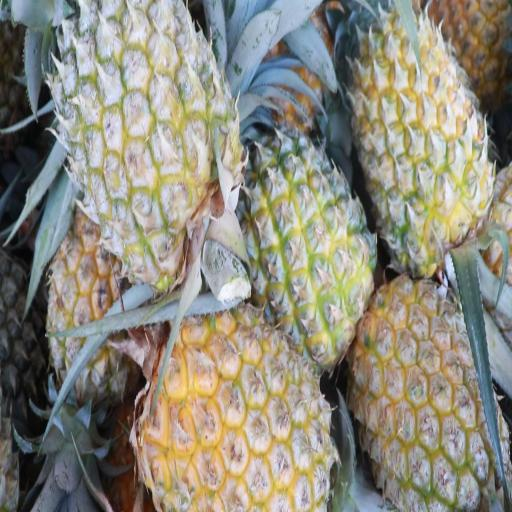------------------------------: (60, 0, 238, 274), (247, 132, 374, 345), (36, 196, 146, 402)
Pineapple - v8 v1: (150, 303, 333, 512), (361, 281, 512, 512), (360, 14, 489, 250)
